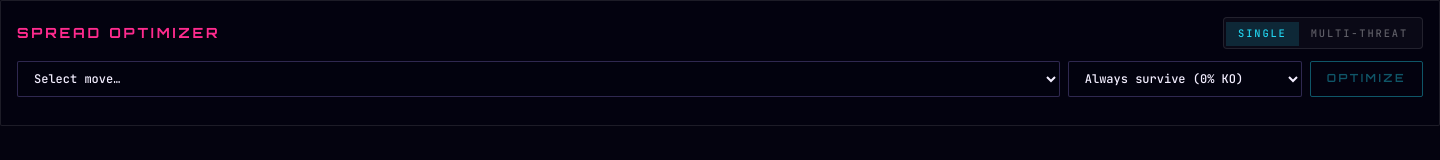
SpreadOptimizerPanel › shows empty state when no candidates returned
The image size is (1440, 160).
Select "Earthquake" in the dropdown named "move id" at (538, 79), box left=17, top=61, right=1060, bottom=97
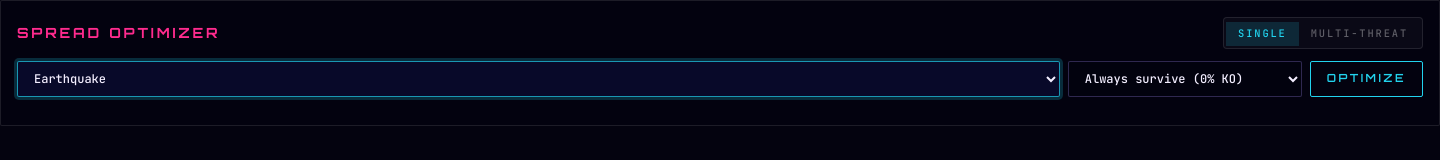
Click the button "Optimize" at (1366, 79), box left=1310, top=61, right=1423, bottom=97
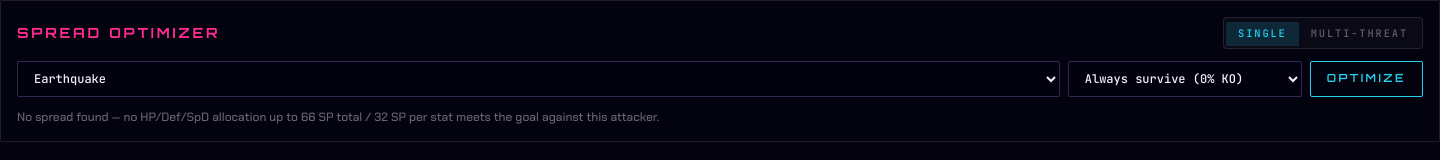
Now the text "No spread found" is shown, box left=17, top=109, right=659, bottom=125
